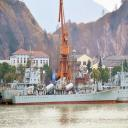Fragata: (12, 63, 121, 108)
